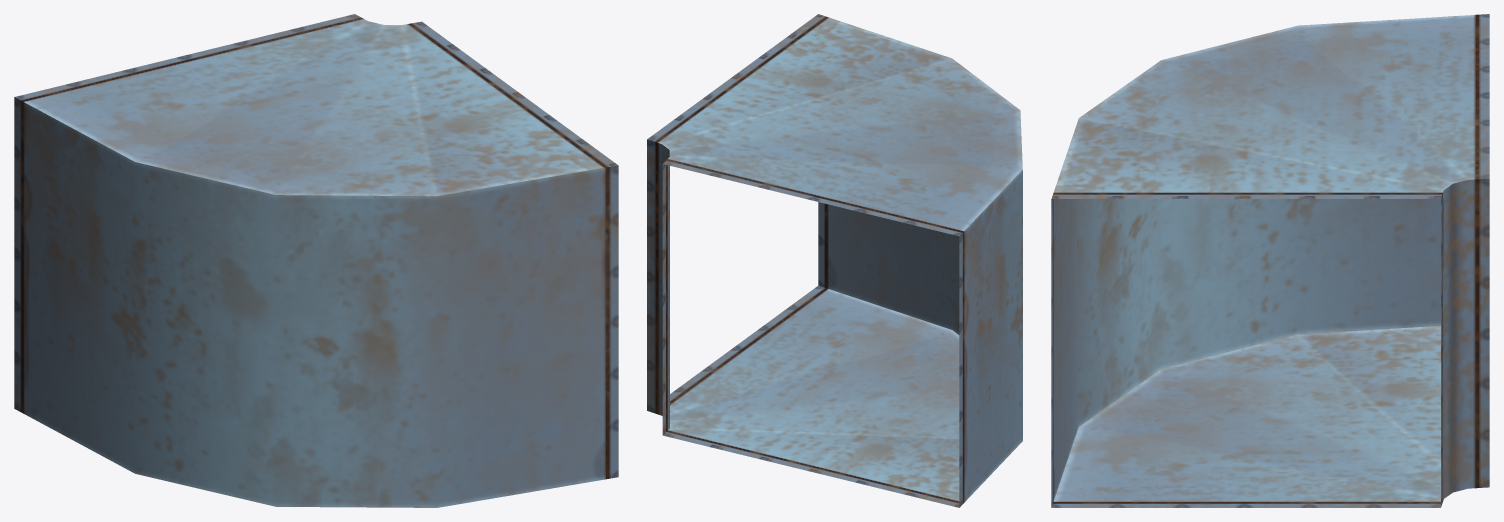
The model's file is airDuct01_elbow_H.fbx.
3 renders of one model, left to right at view 1: azimuth 30°, elevation 25°; view 2: azimuth 150°, elevation 25°; view 3: azimuth 270°, elevation 25°, orthographic. The views are drawn at different scales.
Parts seen in each view (by area): view 1: airDuct01_elbow_H; view 2: airDuct01_elbow_H; view 3: airDuct01_elbow_H.
Boxes of the visible parts, box(x1,y1,x2,y2) form: airDuct01_elbow_H: box(14, 14, 618, 507); airDuct01_elbow_H: box(647, 14, 1022, 507); airDuct01_elbow_H: box(1051, 14, 1489, 507).
Bounding box in the file's own units: 90 × 70 × 90.
